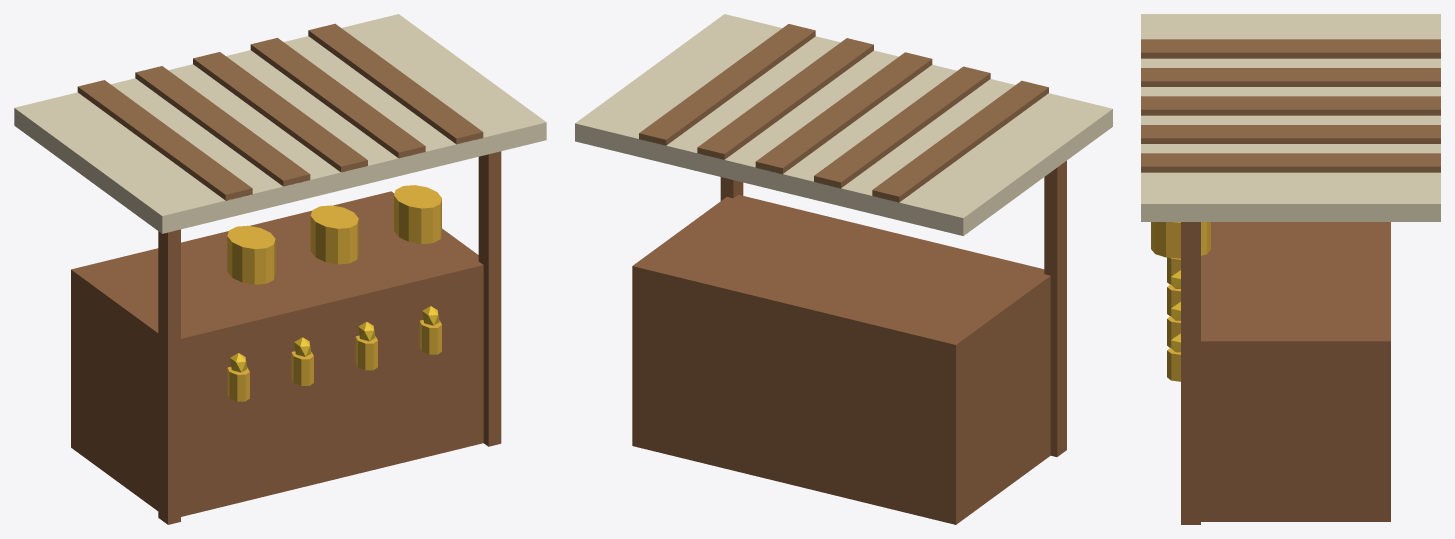
The model's file is board_mascate.glb.
3 renders of one model, left to right at view 1: azimuth 30°, elevation 25°; view 2: azimuth 150°, elevation 25°; view 3: azimuth 270°, elevation 25°, orthographic.
Visible parts, largest first — view 1: board_mascate; view 2: board_mascate; view 3: board_mascate.
Boxes of the visible parts, x1,y1,x2,y2 form: board_mascate: (14, 14, 546, 524); board_mascate: (575, 14, 1112, 524); board_mascate: (1141, 14, 1440, 524).
Size of the model in its own units: 6 by 5 by 4.
